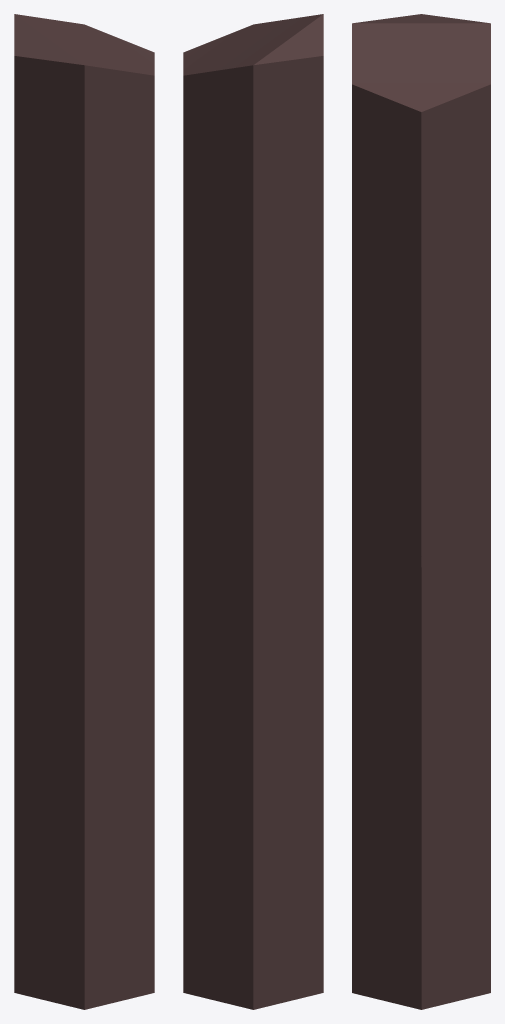
Rendered from wood_8.FBX.
The picture shows the model from 3 angles, left to right: view 1: azimuth 30°, elevation 25°; view 2: azimuth 150°, elevation 25°; view 3: azimuth 270°, elevation 25°; orthographic projection.
Parts seen in each view (by area): view 1: wood_8; view 2: wood_8; view 3: wood_8.
Part boxes in pixels (box(x1,y1,x2,y2)): wood_8: box(14, 14, 154, 1009); wood_8: box(183, 14, 323, 1009); wood_8: box(352, 14, 490, 1009).
Bounding box in the file's own units: 5.64 × 36.37 × 4.89.
